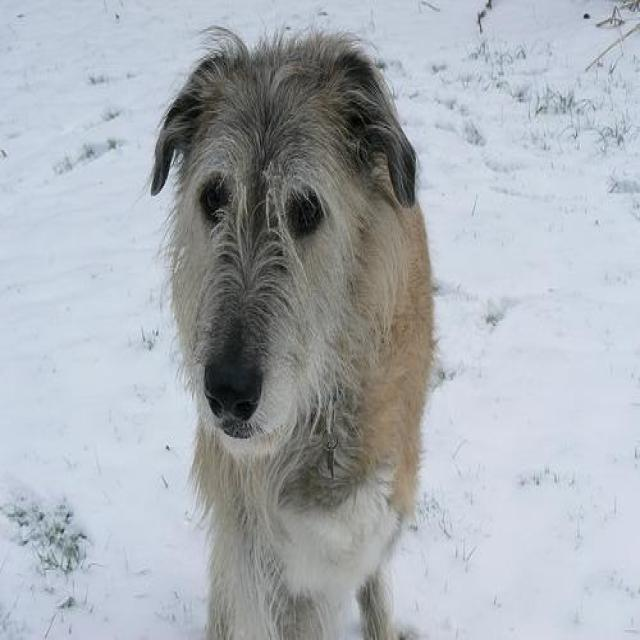irish_wolfhound: (148, 38, 458, 638)
